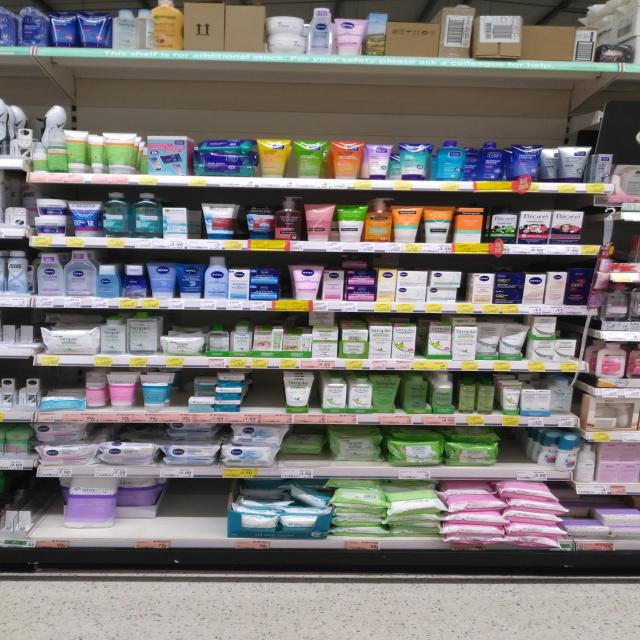void: (192, 477, 232, 550), (159, 478, 189, 550), (502, 425, 539, 479), (35, 480, 63, 548), (253, 370, 279, 423)
